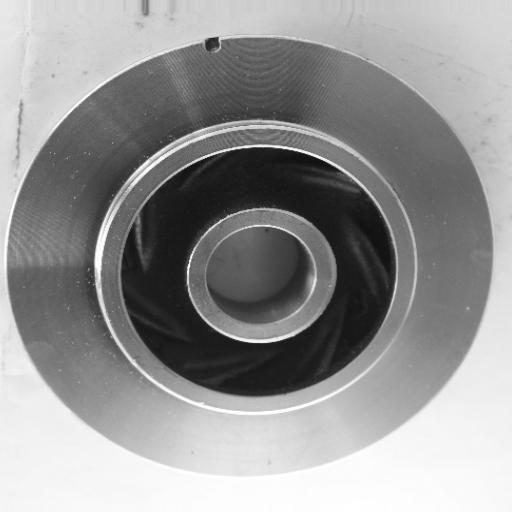pit: (193, 24, 231, 61)
unpolished_casting: (5, 34, 495, 484)
